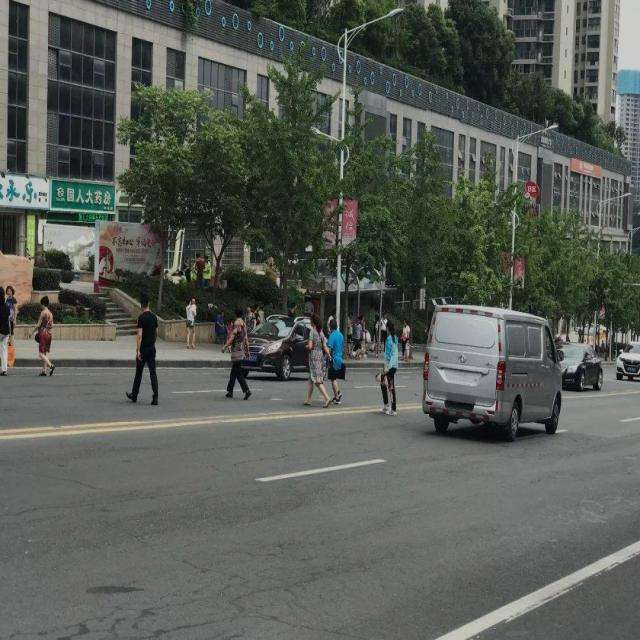non-fight: (128, 293, 161, 405), (301, 314, 332, 406), (373, 319, 402, 415), (223, 314, 252, 399), (31, 296, 56, 377), (326, 316, 345, 403), (0, 287, 16, 375), (183, 298, 198, 348), (400, 318, 410, 358), (352, 316, 362, 348)
